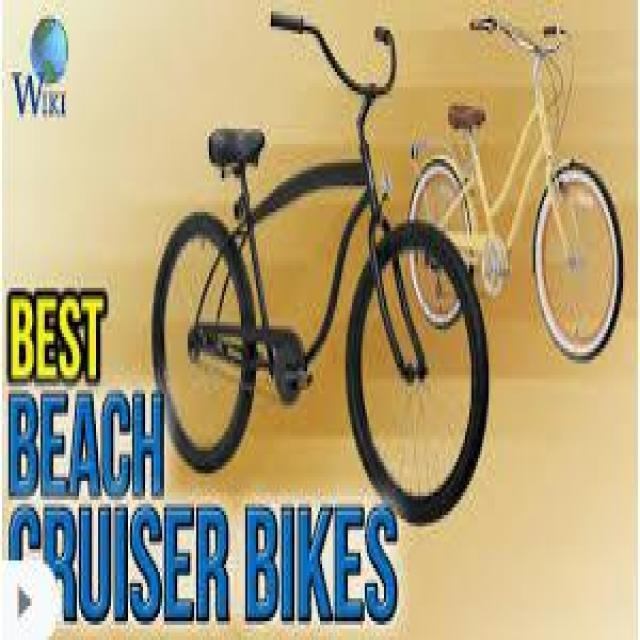bicycle: (151, 24, 490, 520), (408, 16, 624, 365)
